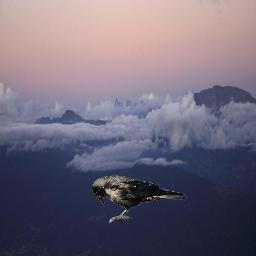Crow: (92, 175, 187, 223)
